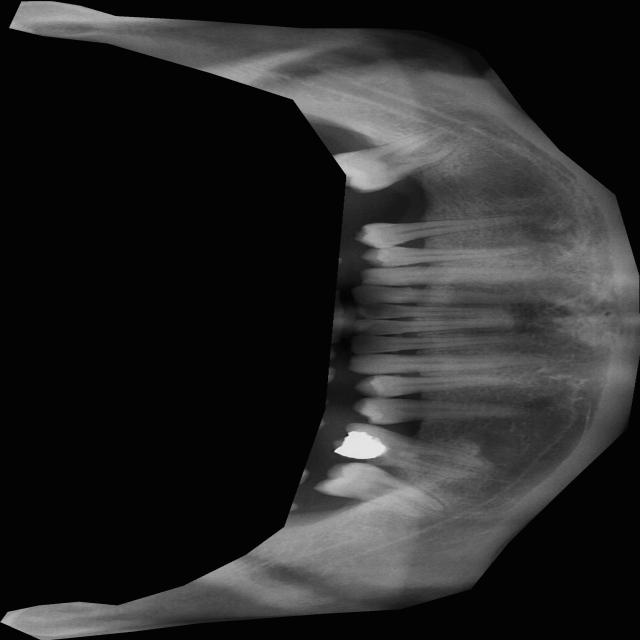mandibula: (0, 0, 640, 640)
